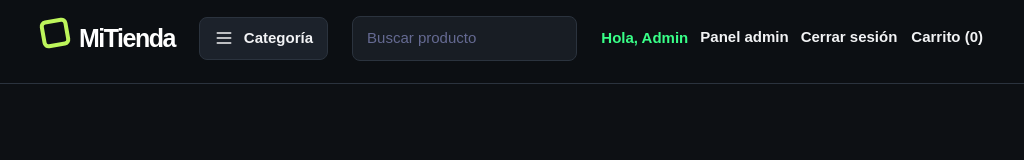
it: Header › CP15 administrador ve su panel y cerrar sesión actualiza el header
What coordinates should you click on to do the following:
click the link "Cerrar sesión"
I would click on:
 (849, 38)
Its box is [801,25,897,52].
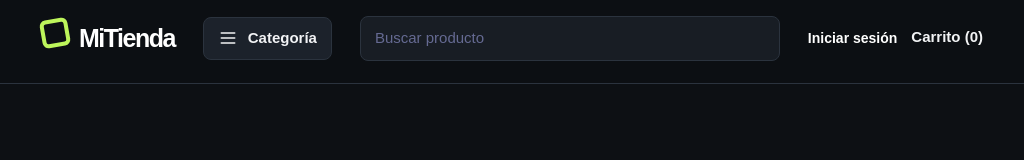
Check: the button "Iniciar sesión" is shown, box [808,30,897,46]
